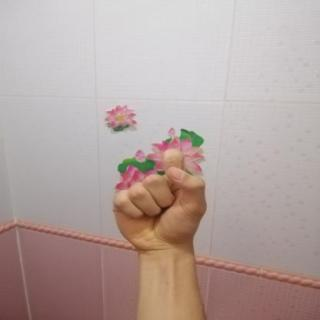FAA: (96, 143, 219, 258)
